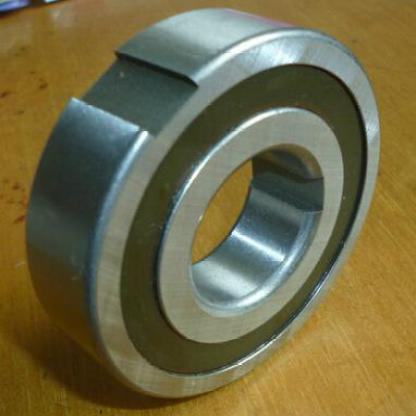FOD: (26, 2, 387, 410)
